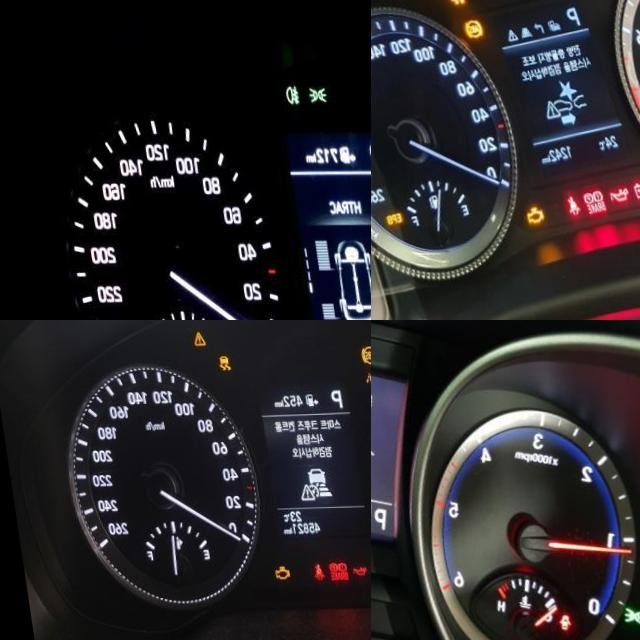Central Warning lamp: (185, 331, 199, 347)
Doors: (543, 614, 562, 634)
FrontFogLight: (282, 84, 298, 106)
LaneCenteringOff: (355, 373, 371, 384)
SideLamp: (608, 607, 636, 629), (305, 85, 325, 105)
